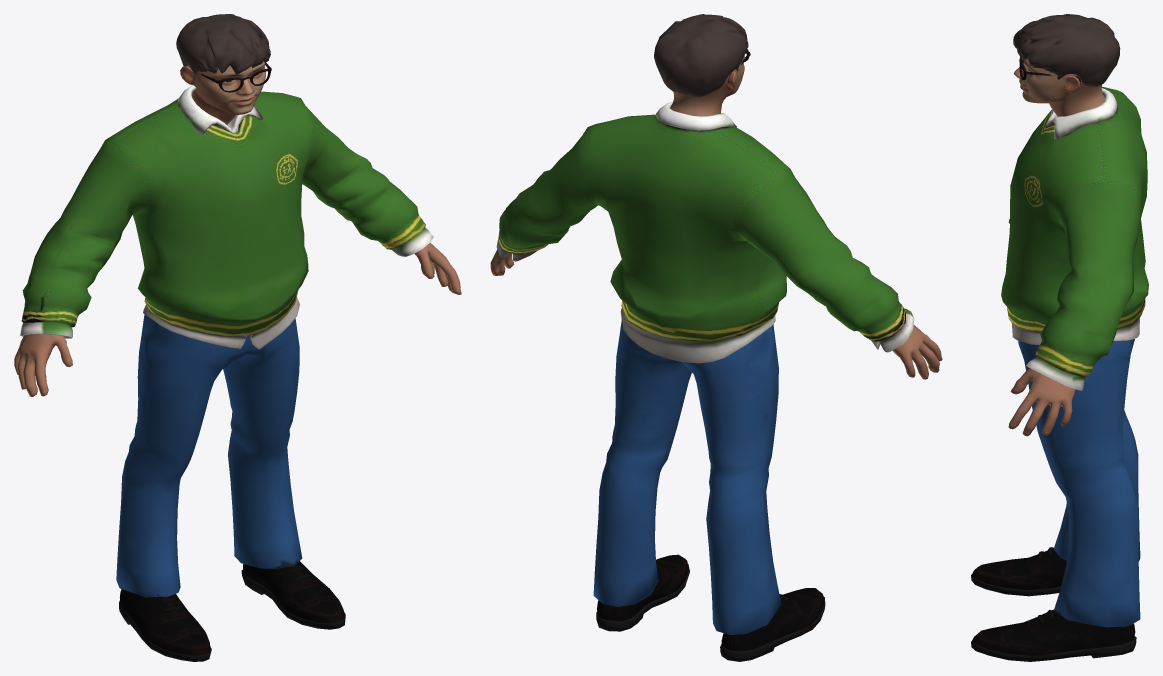
File: tenzinreal1.glb
3 renders of one model, left to right at view 1: azimuth 30°, elevation 25°; view 2: azimuth 150°, elevation 25°; view 3: azimuth 270°, elevation 25°, orthographic.
Visible parts, largest first — view 1: tenzin1; view 2: tenzin1; view 3: tenzin1.
Part boxes in pixels (x1,y1,x2,y2): tenzin1: (14, 14, 461, 661); tenzin1: (490, 14, 942, 661); tenzin1: (971, 14, 1148, 661).
Bounding box in the file's own units: 0.7629 × 1 × 0.2697.
9 materials, 9 textured.
